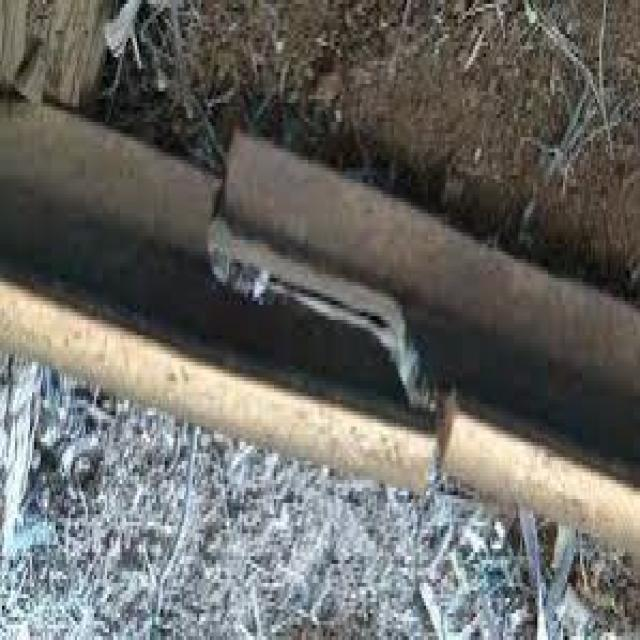broken_rail_high: (202, 127, 464, 491)
